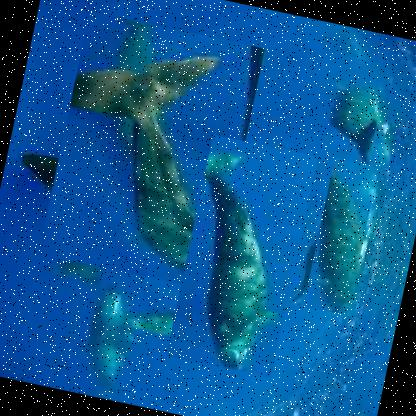sperm_whale: (37, 9, 265, 290), (165, 132, 318, 376), (302, 155, 390, 317)
